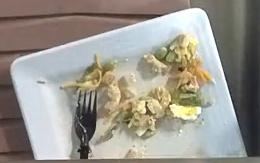salad: (62, 34, 213, 151)
